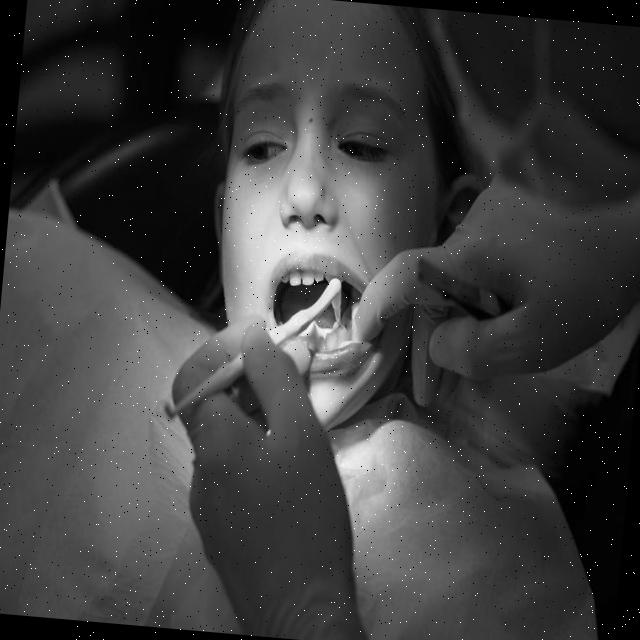Fear: (202, 0, 426, 434)
